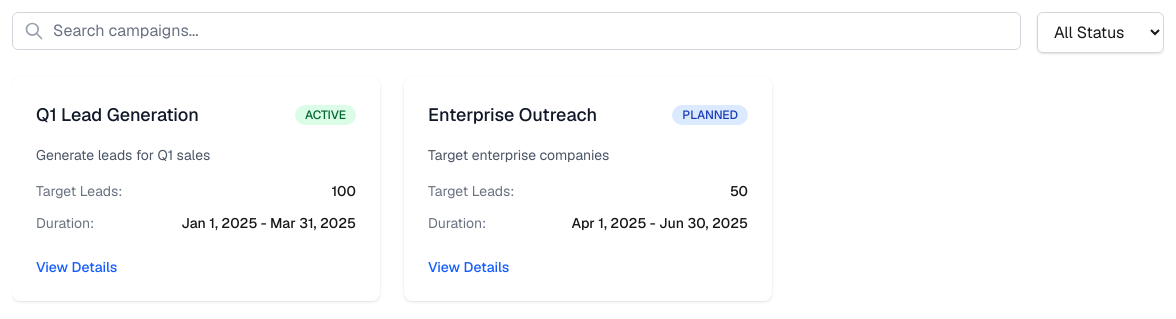
CampaignList › filters campaigns by status
# Change to ACTIVE filter
Step 1. Select "Active" in the dropdown named "Filter campaigns by status" → x=1100, y=32, box top-left (1037, 12), bottom-right (1164, 53)
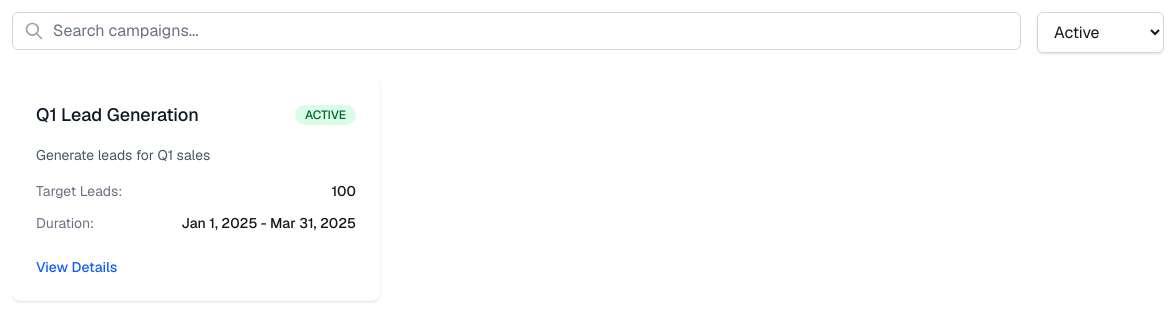
Expected: the heading "Q1 Lead Generation" is shown, top-left (36, 101), bottom-right (199, 129)
Expected: the heading "Enterprise Outreach" is gone
